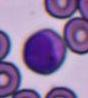L: (22, 29, 66, 76)
